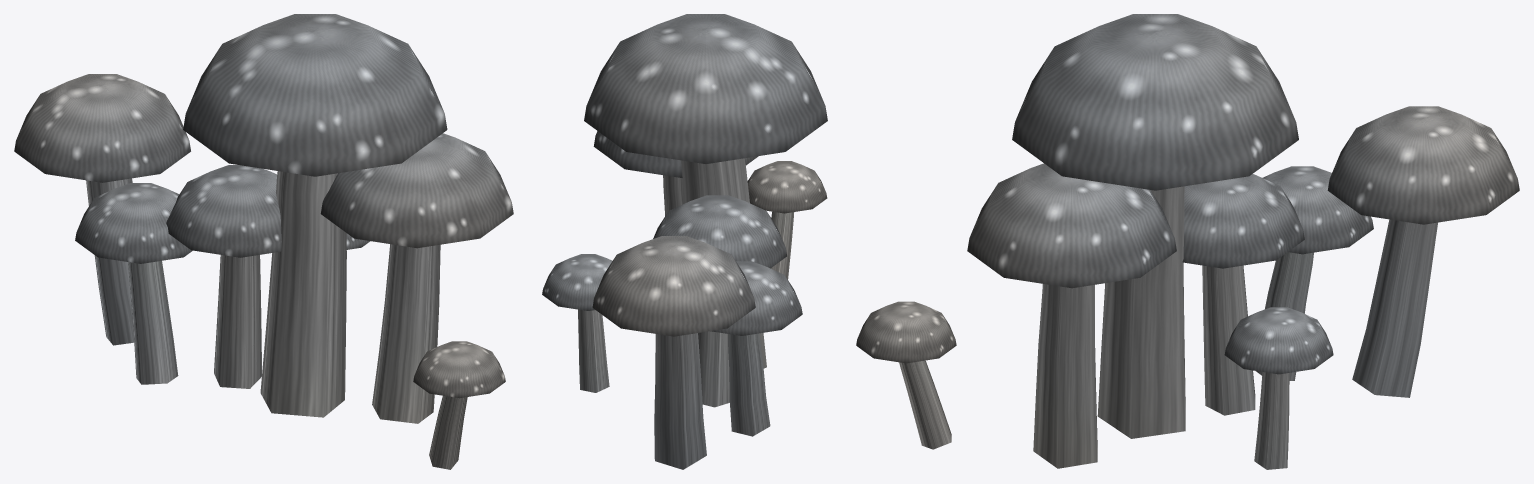
File: shroom_cluster_l0.gltf
3 views of the same model, side by side, from view 1: azimuth 30°, elevation 25°; view 2: azimuth 150°, elevation 25°; view 3: azimuth 270°, elevation 25° (orthographic). The views are drawn at different scales.
Parts seen in each view (by area): view 1: shroom_cluster_l0; view 2: shroom_cluster_l0; view 3: shroom_cluster_l0.
Boxes of the visible parts, left/top/right/bottom form: shroom_cluster_l0: left=14, top=14, right=513, bottom=469; shroom_cluster_l0: left=542, top=14, right=827, bottom=469; shroom_cluster_l0: left=856, top=14, right=1519, bottom=469.
Bounding box in the file's own units: 0.8016 × 0.9106 × 1.37.
Materials: 2 (2 with a texture image).
